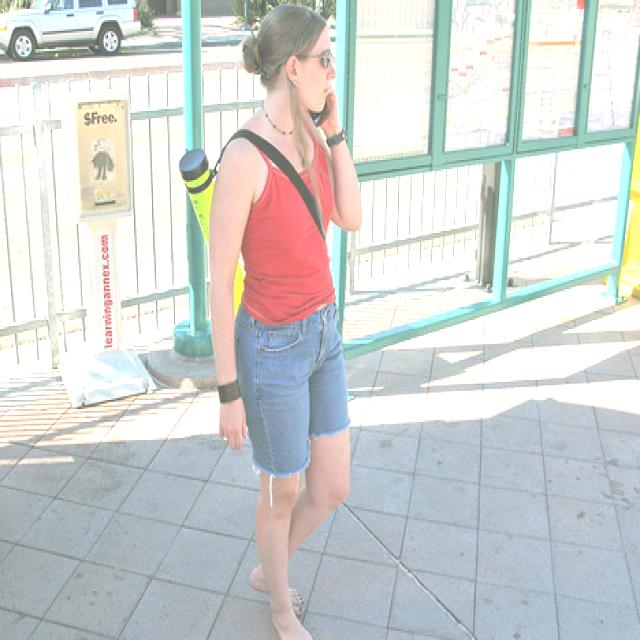Vehicle: (0, 0, 144, 60)
